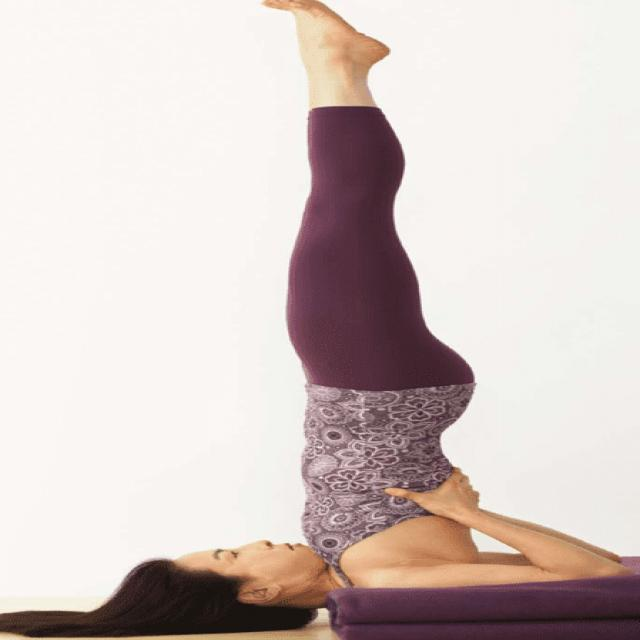yoga-pose shoulderstand: (114, 0, 612, 617)
